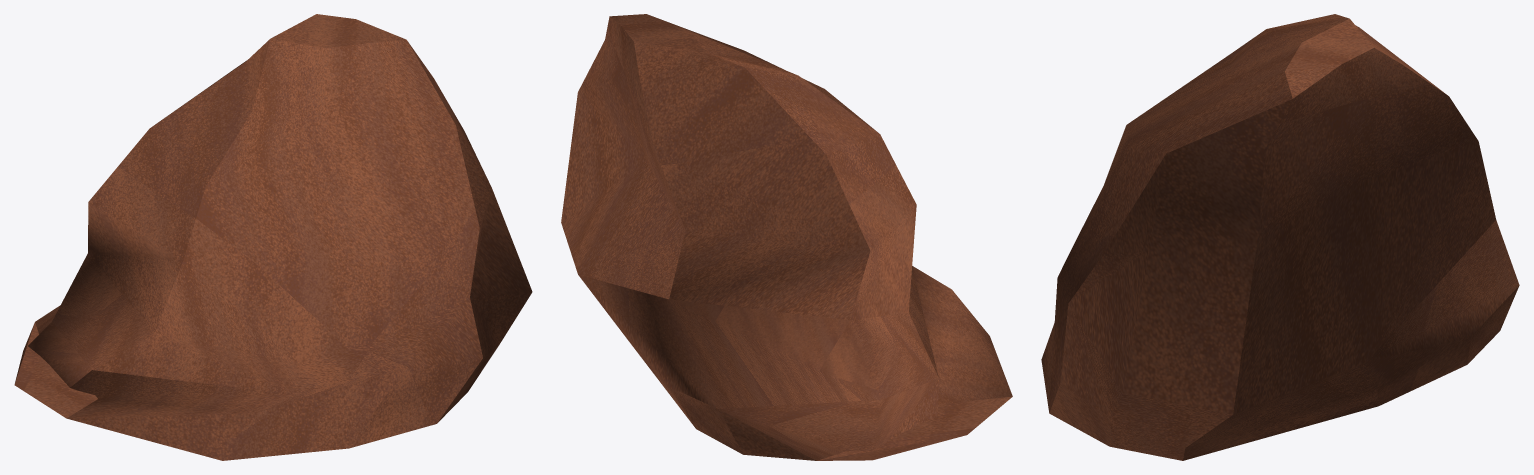
File: Rock8.fbx
3 renders of one model, left to right at view 1: azimuth 30°, elevation 25°; view 2: azimuth 150°, elevation 25°; view 3: azimuth 270°, elevation 25°, orthographic. The views are drawn at different scales.
Visible parts, largest first — view 1: polySurface3; view 2: polySurface3; view 3: polySurface3.
Part boxes in pixels (x1=…): polySurface3: x1=14, y1=14, x2=532, y2=460; polySurface3: x1=561, y1=14, x2=1012, y2=460; polySurface3: x1=1041, y1=14, x2=1519, y2=460.
Size of the model in its own units: 9.68 by 6.6 by 7.65.
